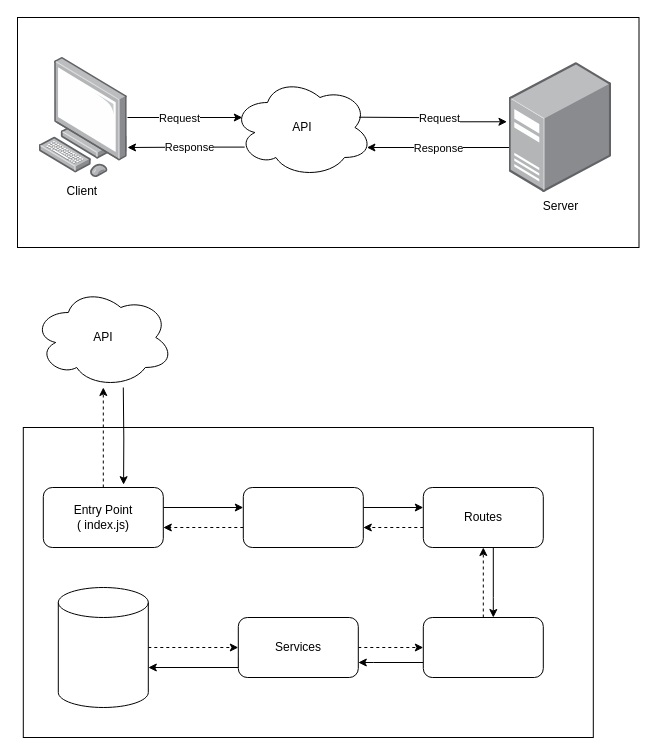
This 657x755 diagram has some shape labels left out. The box of each missing label's shape, as (x1, y1, x2, y2) in pixels:
Controllers: (422, 616, 543, 678)
Middlewares: (242, 486, 363, 548)
MySQL Database: (57, 586, 148, 708)
